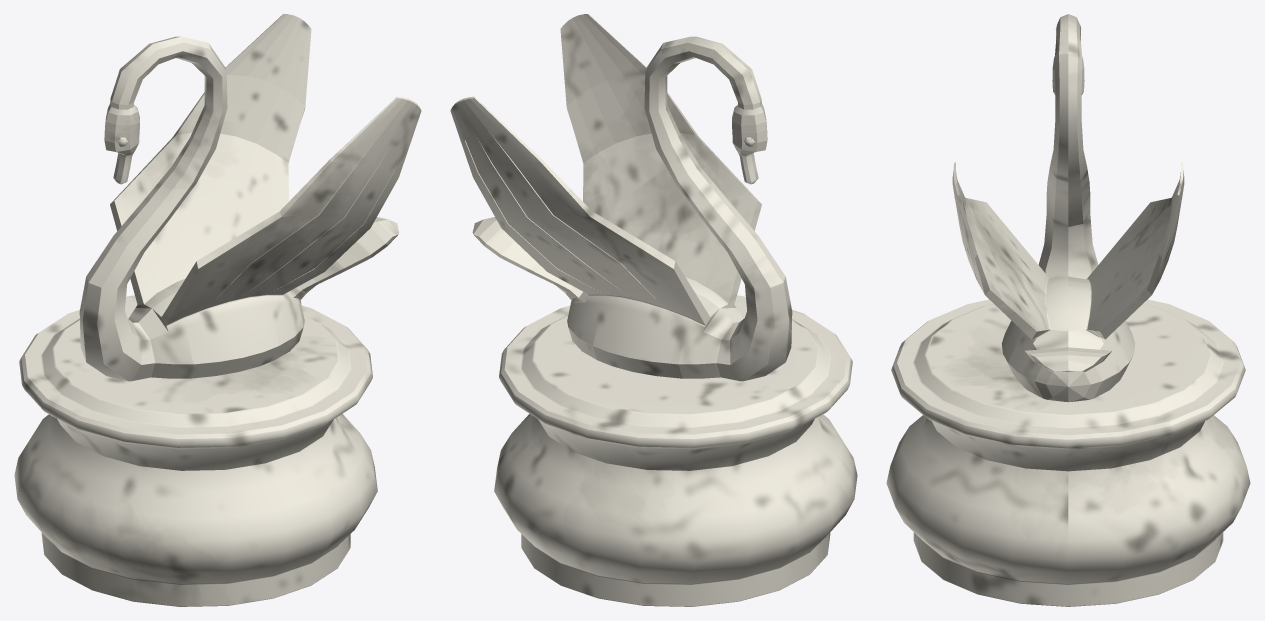
Rendered from swanstatue.fbx.
The picture shows the model from 3 angles, left to right: view 1: azimuth 30°, elevation 25°; view 2: azimuth 150°, elevation 25°; view 3: azimuth 270°, elevation 25°; orthographic projection.
Parts seen in each view (by area): view 1: swanstatue; view 2: swanstatue; view 3: swanstatue.
Boxes of the visible parts, x1=… form: swanstatue: x1=14, y1=14, x2=421, y2=606; swanstatue: x1=450, y1=14, x2=857, y2=606; swanstatue: x1=886, y1=14, x2=1250, y2=606.
Size of the model in its own units: 16.45 by 22.28 by 14.49.
1 material, 1 textured.
